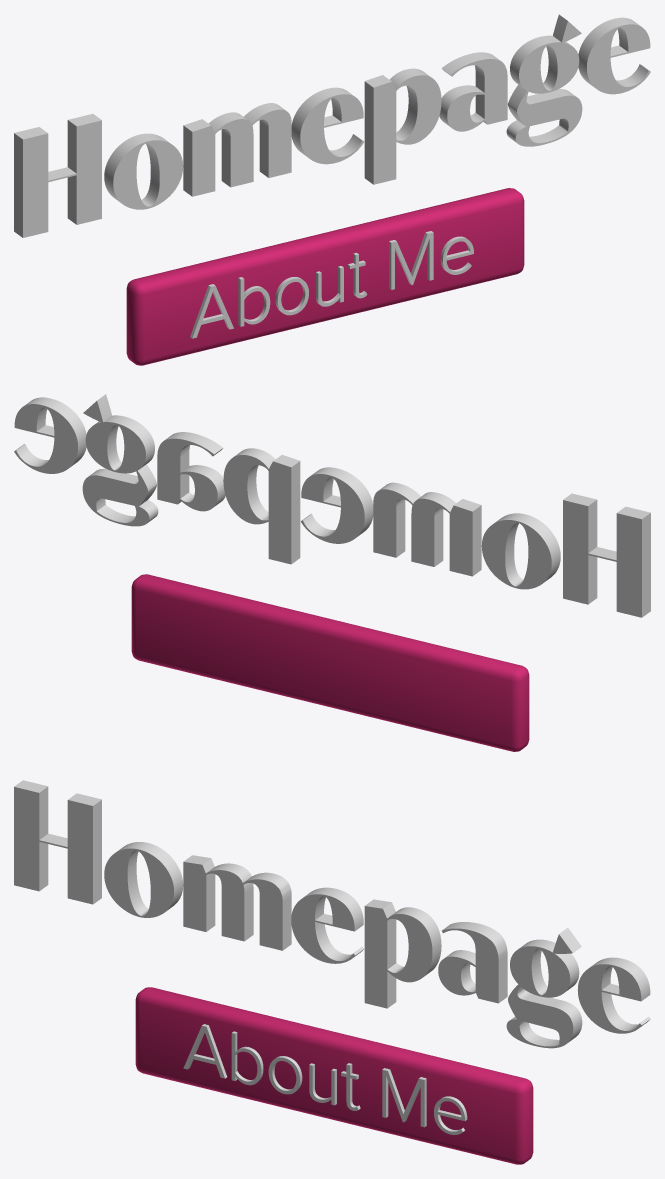
File: home.glb
3 views of the same model, one above another, from view 1: azimuth 30°, elevation 25°; view 2: azimuth 150°, elevation 25°; view 3: azimuth 330°, elevation 25° (orthographic).
Parts seen in each view (by area): view 1: homepage, button_about; view 2: homepage, button_about; view 3: homepage, button_about.
Part boxes in pixels (x1,y1,x2,y2): homepage: (14,14,650,237); button_about: (126,188,524,365); homepage: (14,394,650,617); button_about: (131,574,529,751); homepage: (14,780,650,1048); button_about: (135,987,533,1164).
Size of the model in its own units: 8.04 by 3.19 by 0.35.
